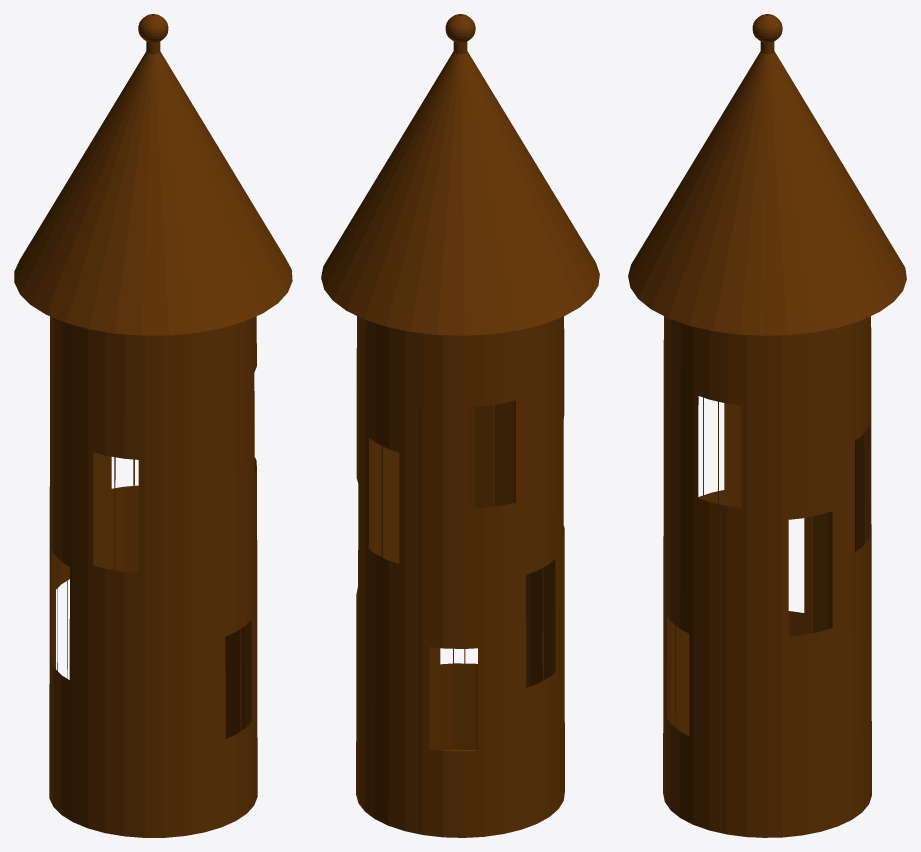
File: turm.glb
3 renders of one model, left to right at view 1: azimuth 30°, elevation 25°; view 2: azimuth 150°, elevation 25°; view 3: azimuth 270°, elevation 25°, orthographic.
Parts seen in each view (by area): view 1: Turm; view 2: Turm; view 3: Turm.
Part boxes in pixels (x1=…): Turm: x1=14, y1=14, x2=292, y2=837; Turm: x1=321, y1=14, x2=599, y2=837; Turm: x1=628, y1=14, x2=906, y2=837.
Bounding box in the file's own units: 1.45 × 4.47 × 1.45.
